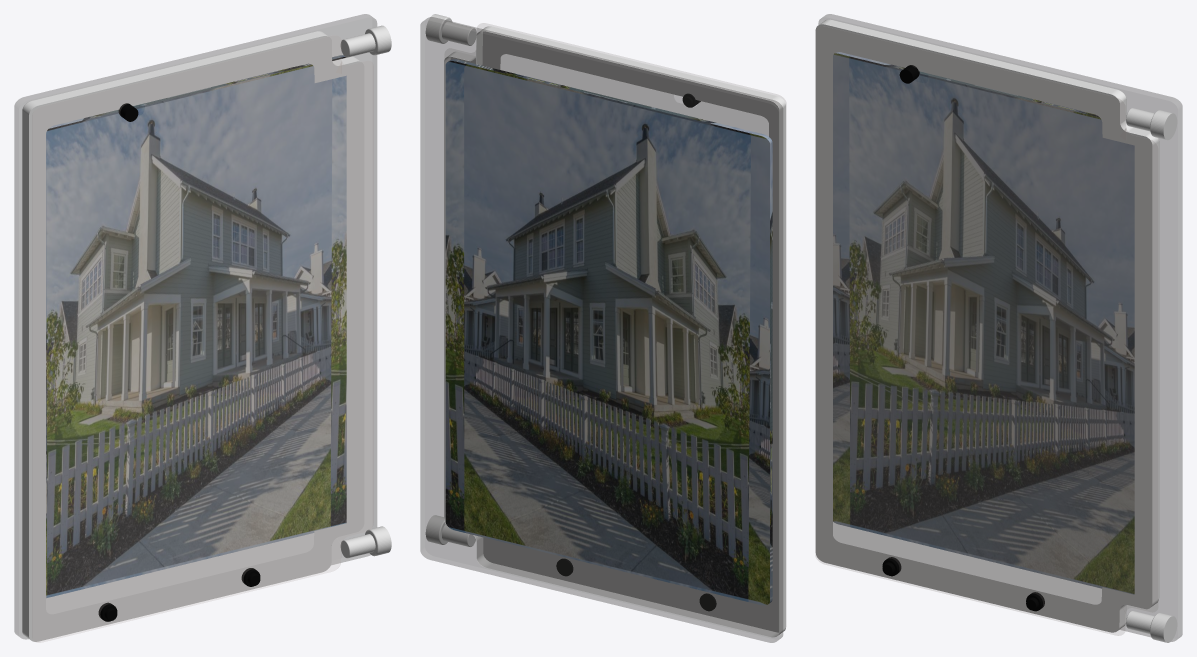
File: a5vertr8.glb
3 views of the same model, side by side, from view 1: azimuth 30°, elevation 25°; view 2: azimuth 150°, elevation 25°; view 3: azimuth 330°, elevation 25° (orthographic).
Visible parts, largest first — view 1: a4vertone; view 2: a4vertone; view 3: a4vertone.
Boxes of the visible parts, x1,y1,x2,y2 form: a4vertone: (14, 14, 391, 642); a4vertone: (420, 14, 786, 642); a4vertone: (815, 14, 1182, 642).
Bounding box in the file's own units: 0.2312 × 0.3323 × 0.0214.
Materials: 6 (1 with a texture image).
